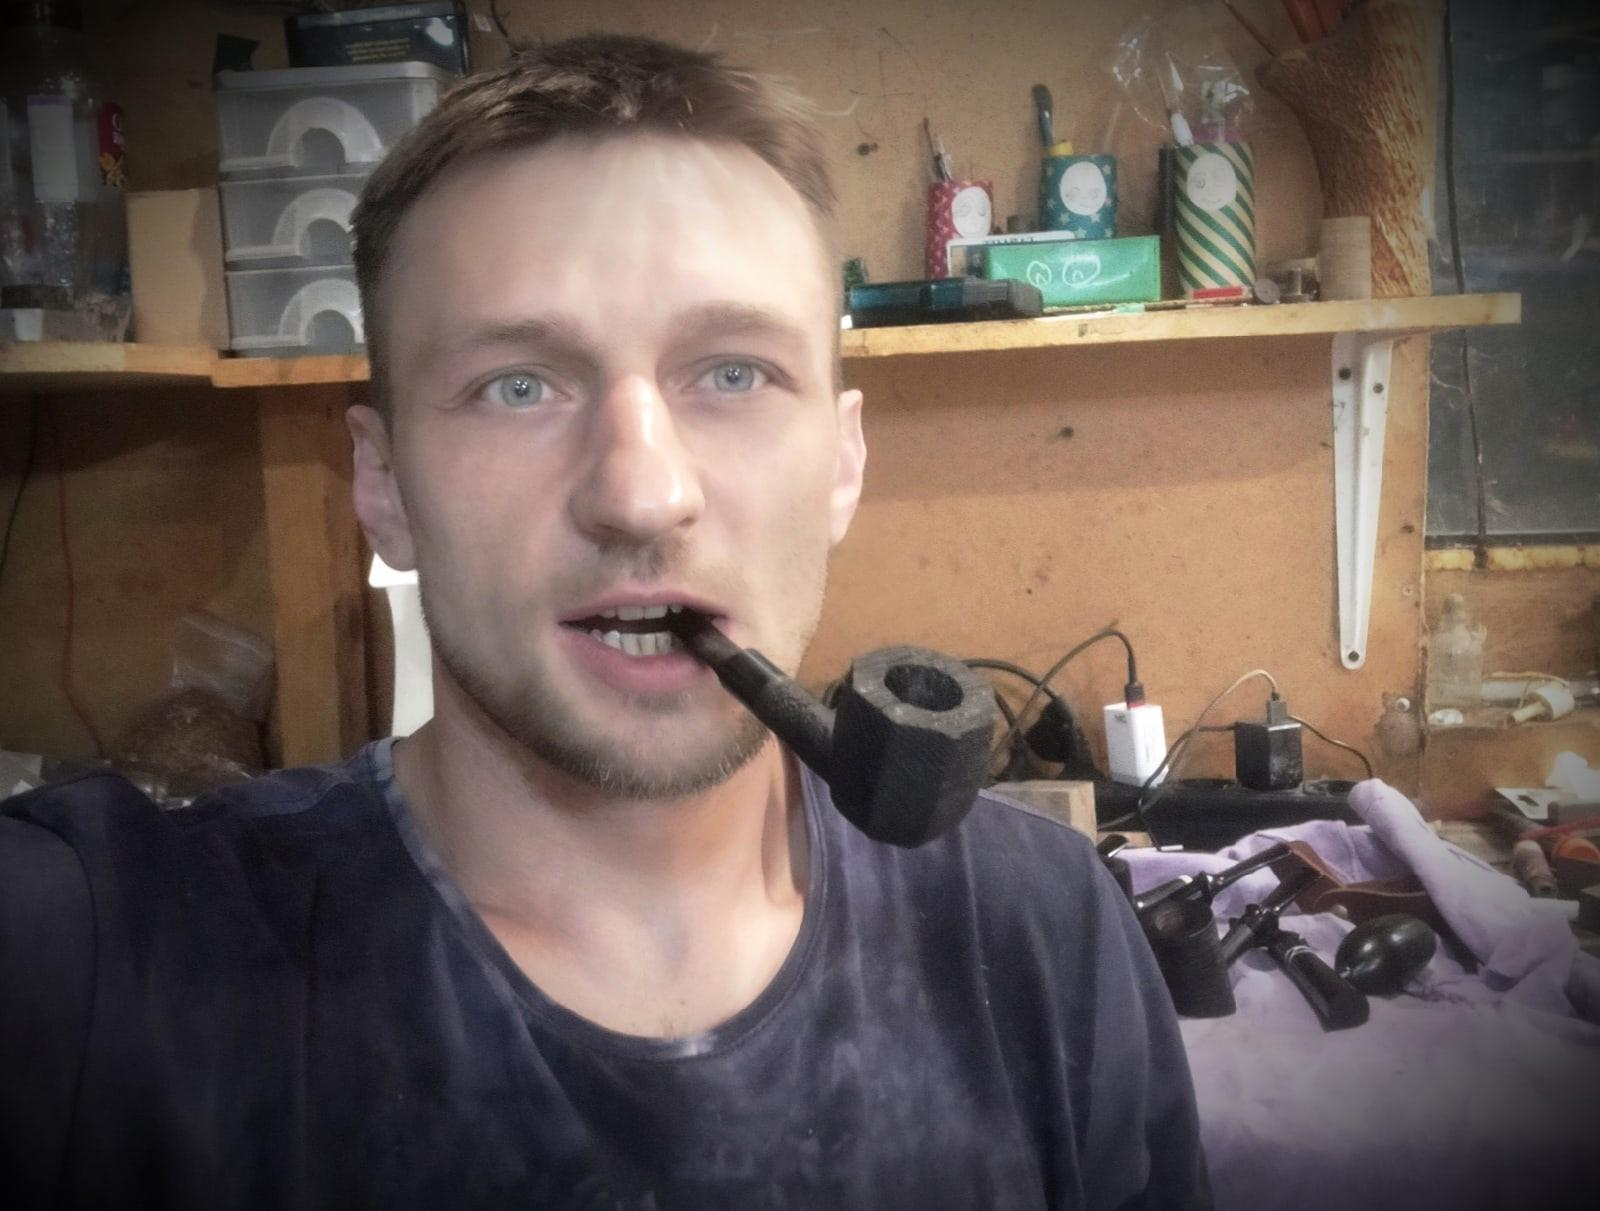trubka: (661, 608, 996, 850)
